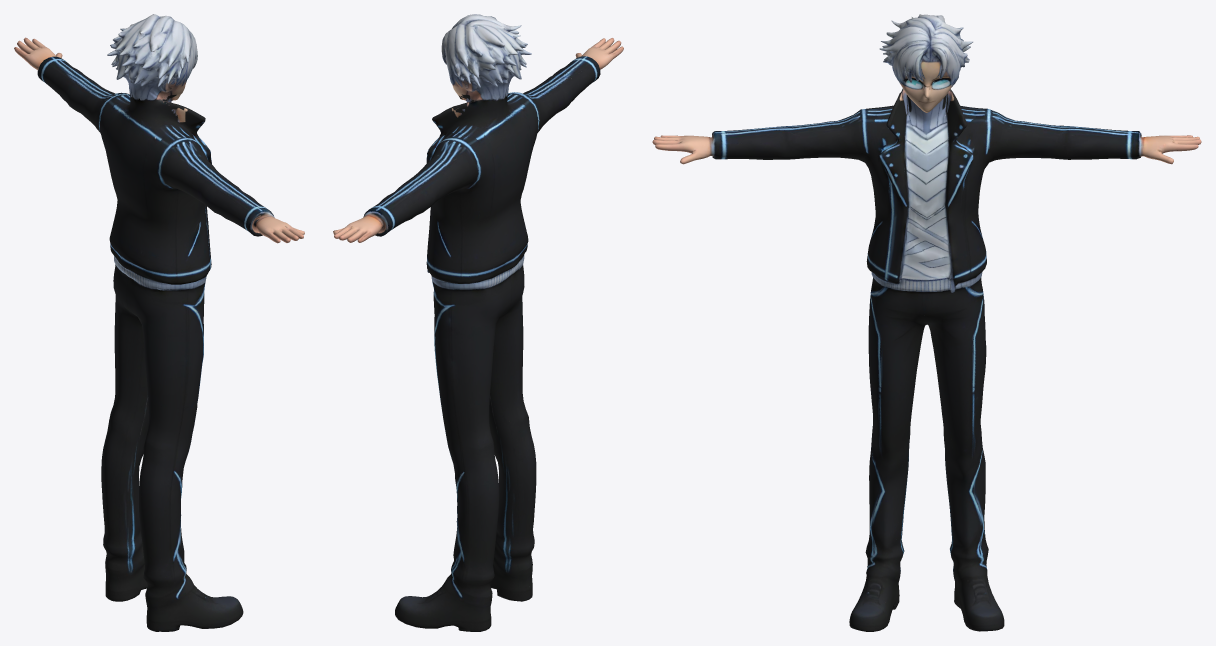
Rendered from anime+character+3d+model+(low+poly).fbx.
3 renders of one model, left to right at view 1: azimuth 30°, elevation 25°; view 2: azimuth 150°, elevation 25°; view 3: azimuth 270°, elevation 25°, orthographic.
Visible parts, largest first — view 1: tripo_node_97e9ee2b; view 2: tripo_node_97e9ee2b; view 3: tripo_node_97e9ee2b.
Boxes of the visible parts, x1,y1,x2,y2 form: tripo_node_97e9ee2b: [14, 14, 304, 631]; tripo_node_97e9ee2b: [333, 14, 623, 631]; tripo_node_97e9ee2b: [652, 14, 1201, 631].
Bounding box in the file's own units: 0.1738 × 0.9944 × 0.8345.
1 material, 1 textured.
